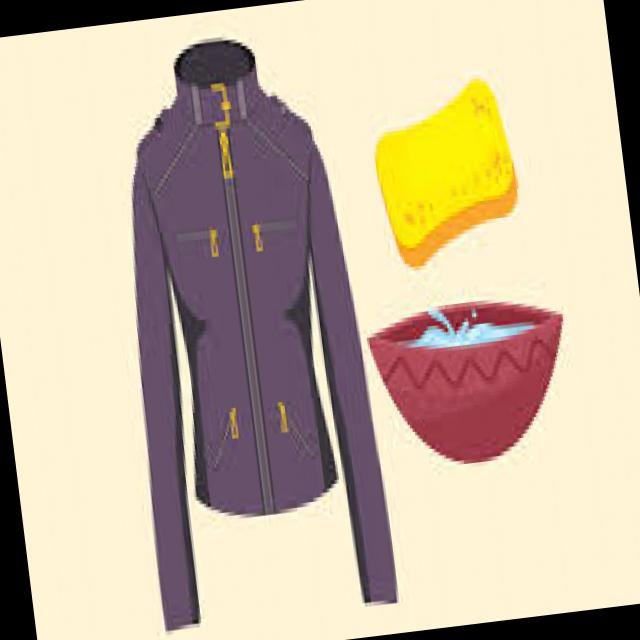Jacket: (121, 86, 403, 548)
